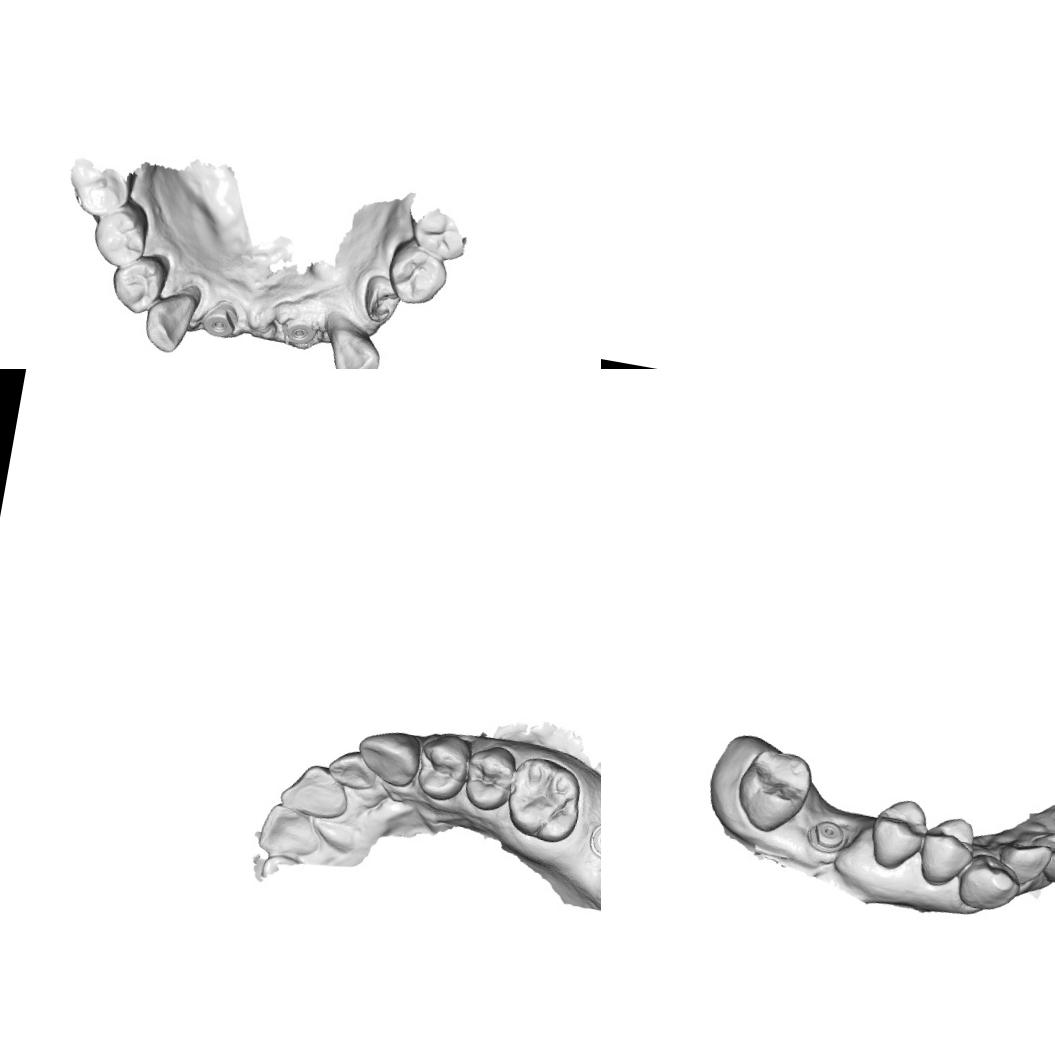canine: (350, 723, 424, 790), (952, 848, 1024, 916), (139, 283, 202, 360), (317, 321, 388, 369)
implant: (196, 295, 248, 346), (802, 813, 850, 860), (276, 306, 322, 354), (584, 815, 601, 867)
incisor: (276, 756, 356, 824), (253, 797, 328, 863), (987, 832, 1055, 894), (322, 744, 381, 794), (1026, 814, 1055, 887)
molar: (728, 740, 815, 839), (500, 753, 586, 847)
premolar: (408, 725, 478, 806), (82, 196, 154, 274), (381, 236, 453, 313), (865, 792, 931, 876), (914, 808, 979, 892), (456, 736, 523, 813), (106, 246, 174, 320)
